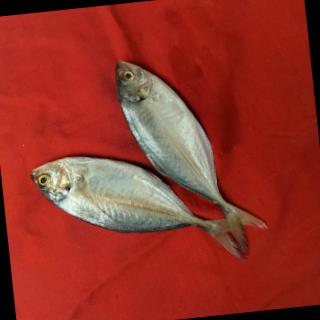Ikan: (16, 45, 278, 292)
